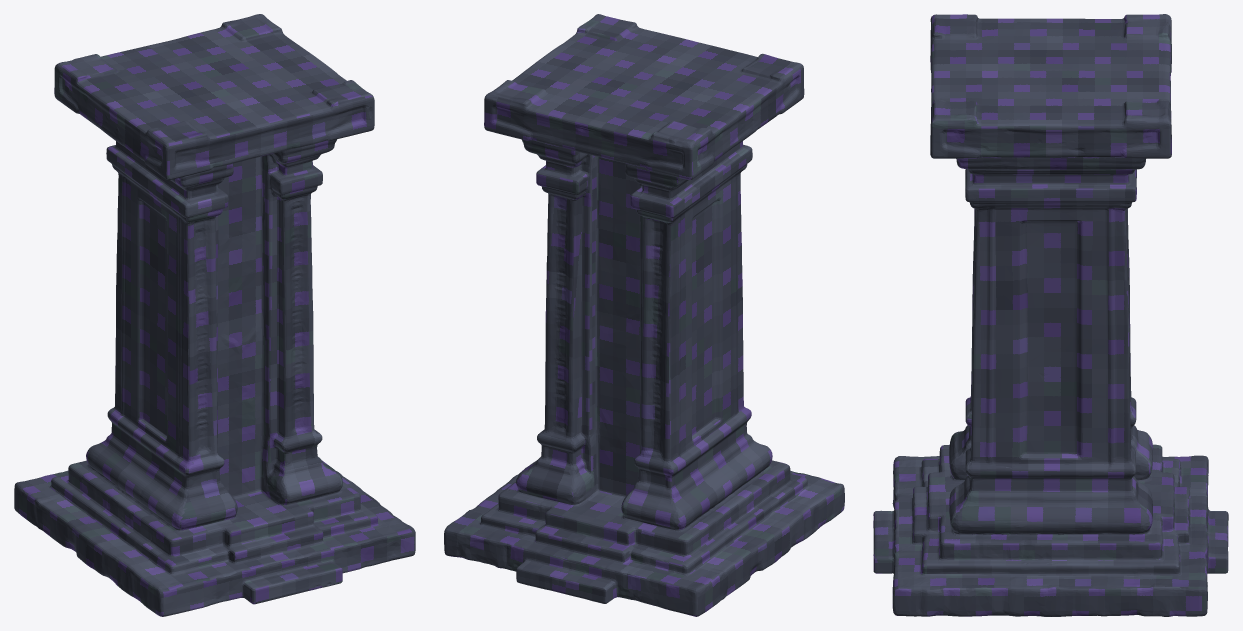
File: weathered-monolith-pillar-generated-2026-04-19T23-30-13-924Z.glb
The picture shows the model from 3 angles, left to right: view 1: azimuth 30°, elevation 25°; view 2: azimuth 150°, elevation 25°; view 3: azimuth 270°, elevation 25°; orthographic projection. The views are drawn at different scales.
Visible parts, largest first — view 1: temp_mesh.ply; view 2: temp_mesh.ply; view 3: temp_mesh.ply.
Part boxes in pixels (<box>): temp_mesh.ply: <box>14,14,415,616</box>; temp_mesh.ply: <box>444,14,844,616</box>; temp_mesh.ply: <box>873,14,1228,616</box>.
Size of the model in its own units: 1.17 by 1.97 by 1.31.
1 material, 1 textured.
